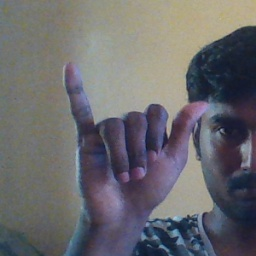J: (61, 61, 208, 218)
